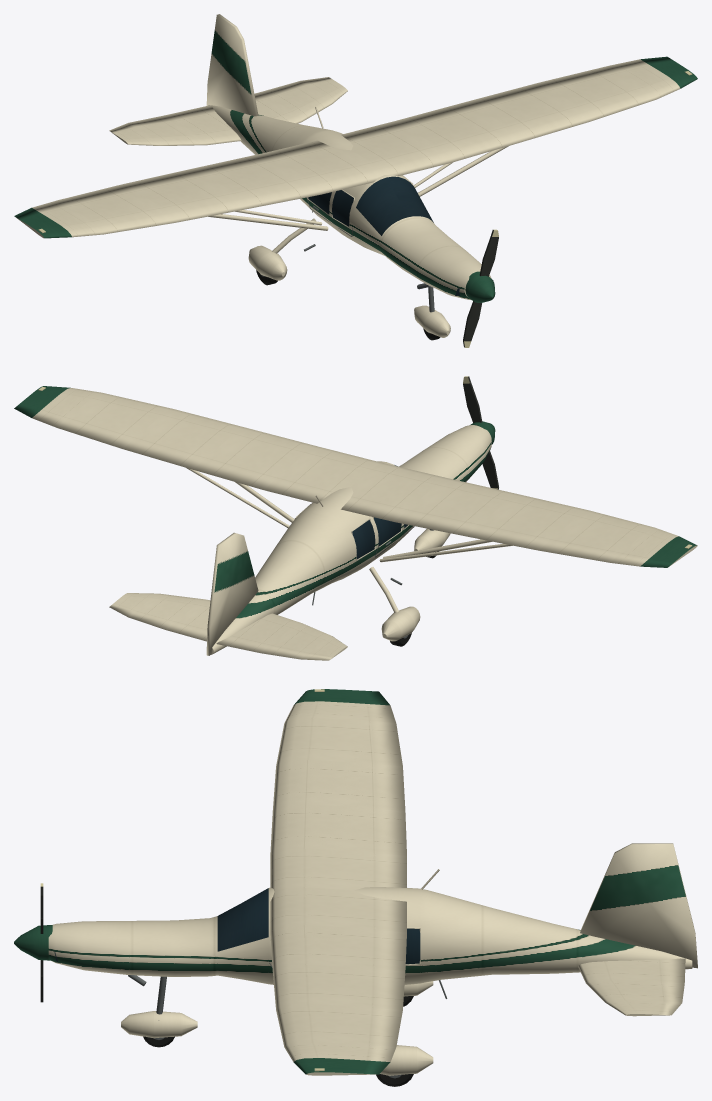
3 renders of one model, top to bottom at view 1: azimuth 30°, elevation 25°; view 2: azimuth 150°, elevation 25°; view 3: azimuth 270°, elevation 25°, orthographic. The views are drawn at different scales.
Parts seen in each view (by area): view 1: ga_single_c; view 2: ga_single_c; view 3: ga_single_c.
Part boxes in pixels (<box>): ga_single_c: <box>14,14,697,347</box>; ga_single_c: <box>14,376,697,660</box>; ga_single_c: <box>14,689,697,1086</box>.
Size of the model in its own units: 11 by 2.7 by 8.3.
Materials: 1 (1 with a texture image).
